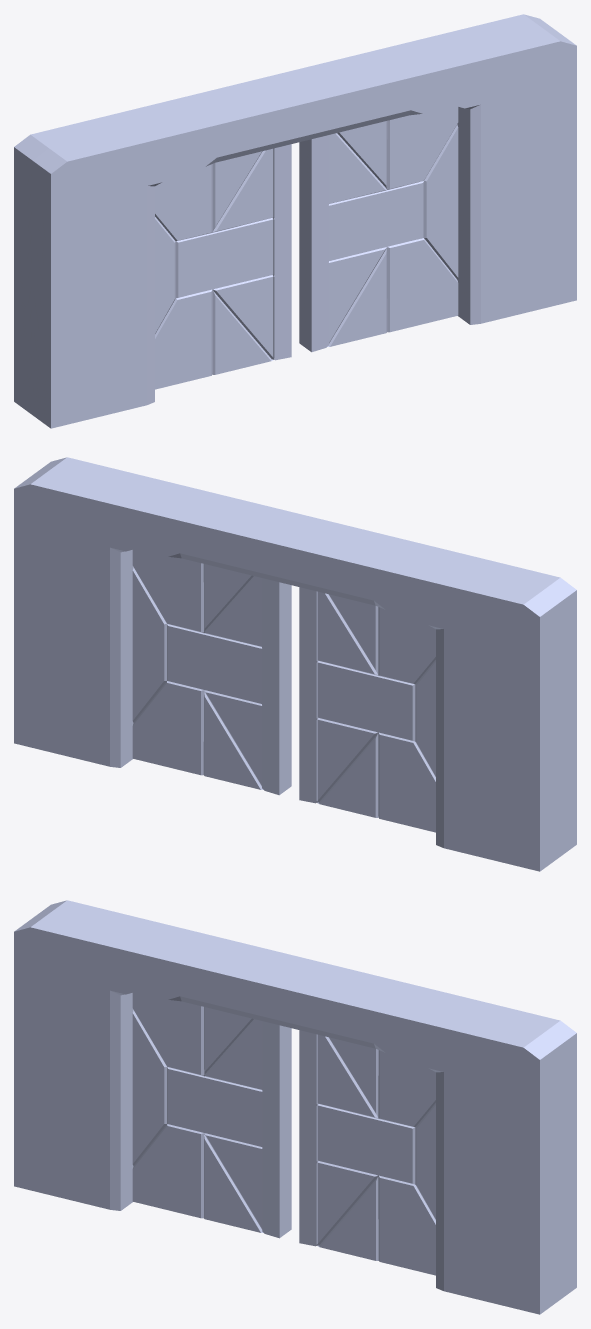
Rendered from Door.fbx.
3 views of the same model, one above another, from view 1: azimuth 30°, elevation 25°; view 2: azimuth 150°, elevation 25°; view 3: azimuth 330°, elevation 25° (orthographic).
Parts seen in each view (by area): view 1: Cube, Cube.002, Cube.003; view 2: Cube, Cube.002, Cube.003; view 3: Cube, Cube.003, Cube.002.
Boxes of the visible parts, bbox=[...] form: Cube: bbox=[14, 14, 576, 428]; Cube.002: bbox=[299, 106, 458, 352]; Cube.003: bbox=[155, 144, 291, 389]; Cube: bbox=[14, 457, 576, 871]; Cube.002: bbox=[132, 549, 291, 795]; Cube.003: bbox=[299, 587, 435, 832]; Cube: bbox=[14, 900, 576, 1314]; Cube.003: bbox=[132, 992, 291, 1238]; Cube.002: bbox=[299, 1030, 435, 1275].
Size of the model in its own units: 998 by 477 by 122.
